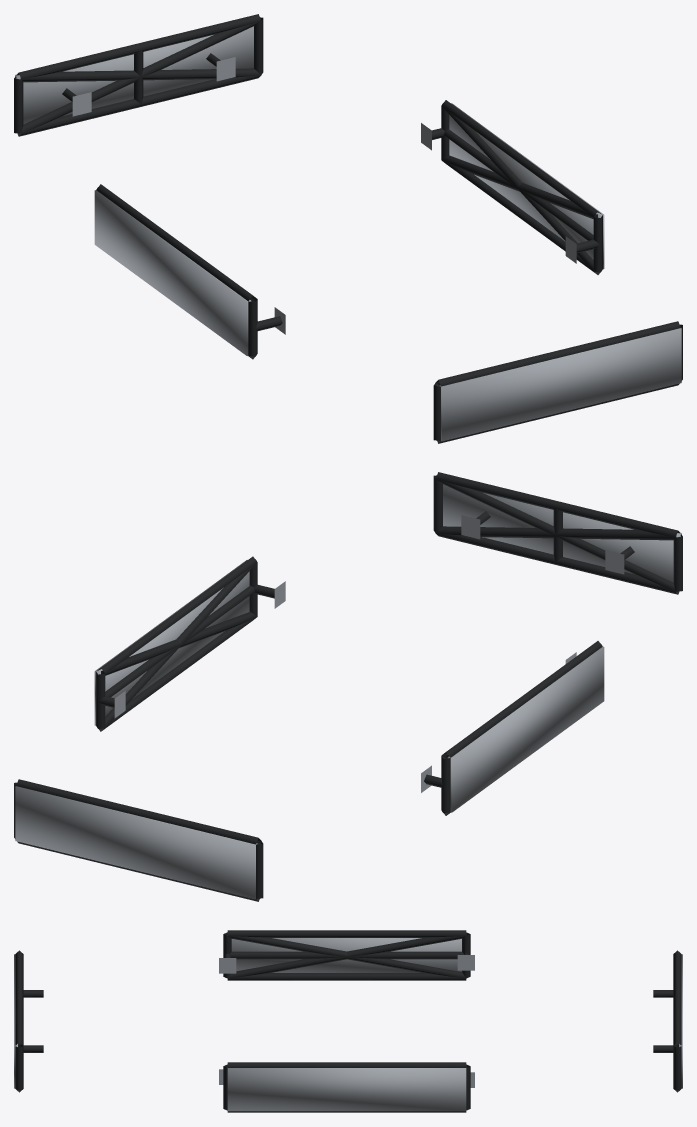
Rendered from castellani_cascalho_protecao.glb.
The picture shows the model from 3 angles, top to bottom: view 1: azimuth 30°, elevation 25°; view 2: azimuth 150°, elevation 25°; view 3: azimuth 270°, elevation 25°; orthographic projection. The views are drawn at different scales.
Parts seen in each view (by area): view 1: Protection_front_Level3_Details, Protection_left_Level3_Details, Protection_rear_Level1_Details, Protection_rear_Level3_Details, Protection_right_Level1_Details, Protection_rear_Level2_Details, Protection_right_Level2_Details, Protection_right_Level3_Details, Protection_front_Level1_Details, Protection_left_Level1_Details; view 2: Protection_rear_Level3_Details, Protection_left_Level3_Details, Protection_front_Level1_Details, Protection_front_Level3_Details, Protection_right_Level1_Details, Protection_front_Level2_Details, Protection_right_Level2_Details, Protection_right_Level3_Details, Protection_rear_Level1_Details, Protection_left_Level1_Details; view 3: Protection_right_Level3_Details, Protection_left_Level2_Details, Protection_left_Level1_Details, Protection_left_Level3_Details, Protection_right_Level1_Details, Protection_rear_Level1_Details, Protection_front_Level1_Details.
Boxes of the visible parts, x1,y1,x2,y2 form: Protection_front_Level3_Details: (439, 328, 681, 441); Protection_left_Level3_Details: (94, 190, 251, 355); Protection_rear_Level1_Details: (14, 14, 263, 136); Protection_rear_Level3_Details: (15, 26, 253, 124); Protection_right_Level1_Details: (421, 100, 602, 274); Protection_rear_Level2_Details: (16, 21, 260, 135); Protection_right_Level2_Details: (441, 106, 601, 274); Protection_right_Level3_Details: (449, 103, 604, 269); Protection_front_Level1_Details: (433, 321, 682, 443); Protection_left_Level1_Details: (96, 184, 285, 359); Protection_rear_Level3_Details: (15, 786, 257, 899); Protection_left_Level3_Details: (447, 646, 604, 812); Protection_front_Level1_Details: (433, 472, 682, 594); Protection_front_Level3_Details: (443, 484, 681, 582); Protection_right_Level1_Details: (96, 556, 285, 731); Protection_front_Level2_Details: (436, 479, 680, 593); Protection_right_Level2_Details: (97, 563, 257, 731); Protection_right_Level3_Details: (94, 560, 249, 725); Protection_rear_Level1_Details: (14, 779, 263, 901); Protection_left_Level1_Details: (421, 641, 602, 815); Protection_right_Level3_Details: (227, 1068, 466, 1111); Protection_left_Level2_Details: (227, 933, 466, 978); Protection_left_Level1_Details: (219, 930, 474, 980); Protection_left_Level3_Details: (231, 938, 461, 972); Protection_right_Level1_Details: (219, 1062, 474, 1112); Protection_rear_Level1_Details: (653, 950, 681, 1092); Protection_front_Level1_Details: (15, 950, 43, 1092).
Size of the model in its own units: 2.06 by 0.354 by 4.26.
1 material, 1 textured.
